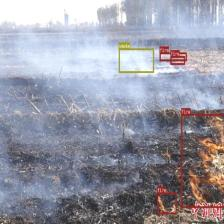fire: (181, 113, 224, 208), (157, 192, 177, 214), (159, 52, 187, 61), (170, 56, 185, 64)
smoke: (118, 48, 154, 73)
